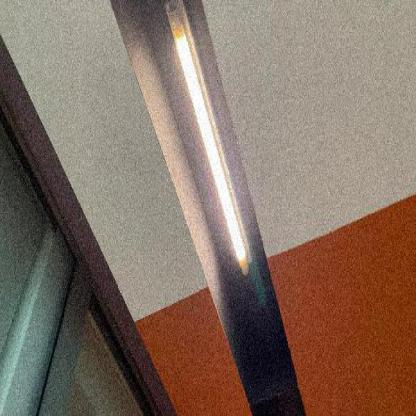light_on: (162, 0, 256, 281)
